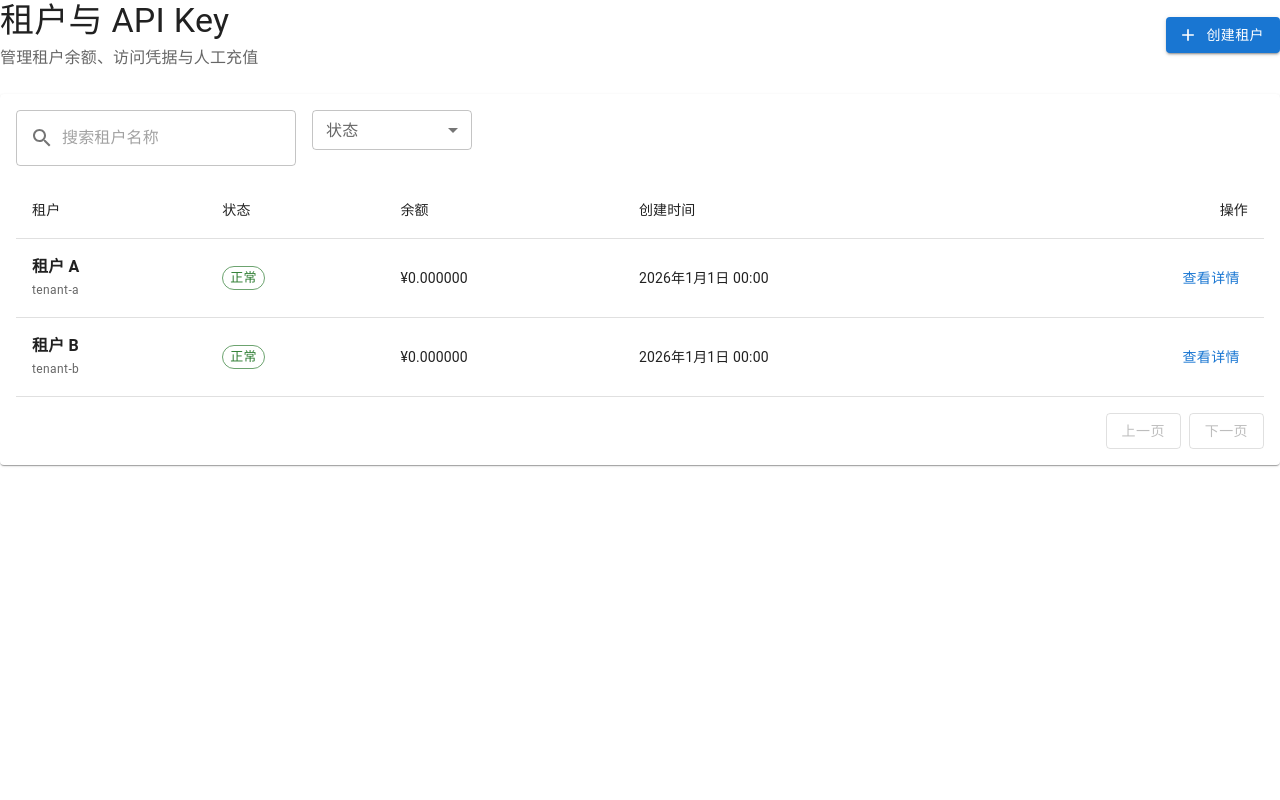
Scenario: 租户创建与一次性 Key 回归 › 未知 Key 异常也有失败反馈，切换租户不会携带旧错误
The image size is (1280, 800).
What coordinates should you click on to do the following:
click the button "查看详情" in the row of "租户 A"
I would click on:
 (1211, 278)
Its box is [1174,260,1248,296].
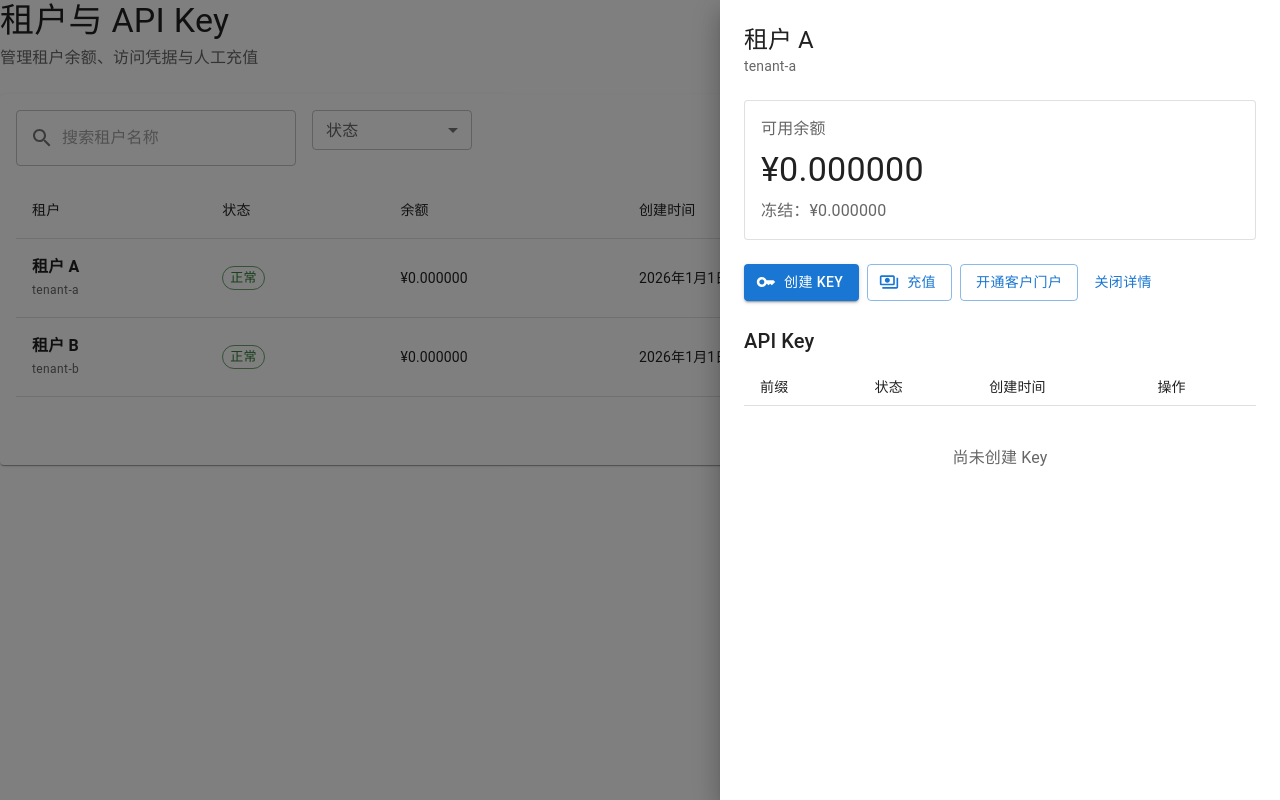
Now the button "创建 Key" is shown
What coordinates should you click on to do the following:
click the button "创建 Key"
I would click on:
 (802, 282)
Its box is [744,264,859,300].
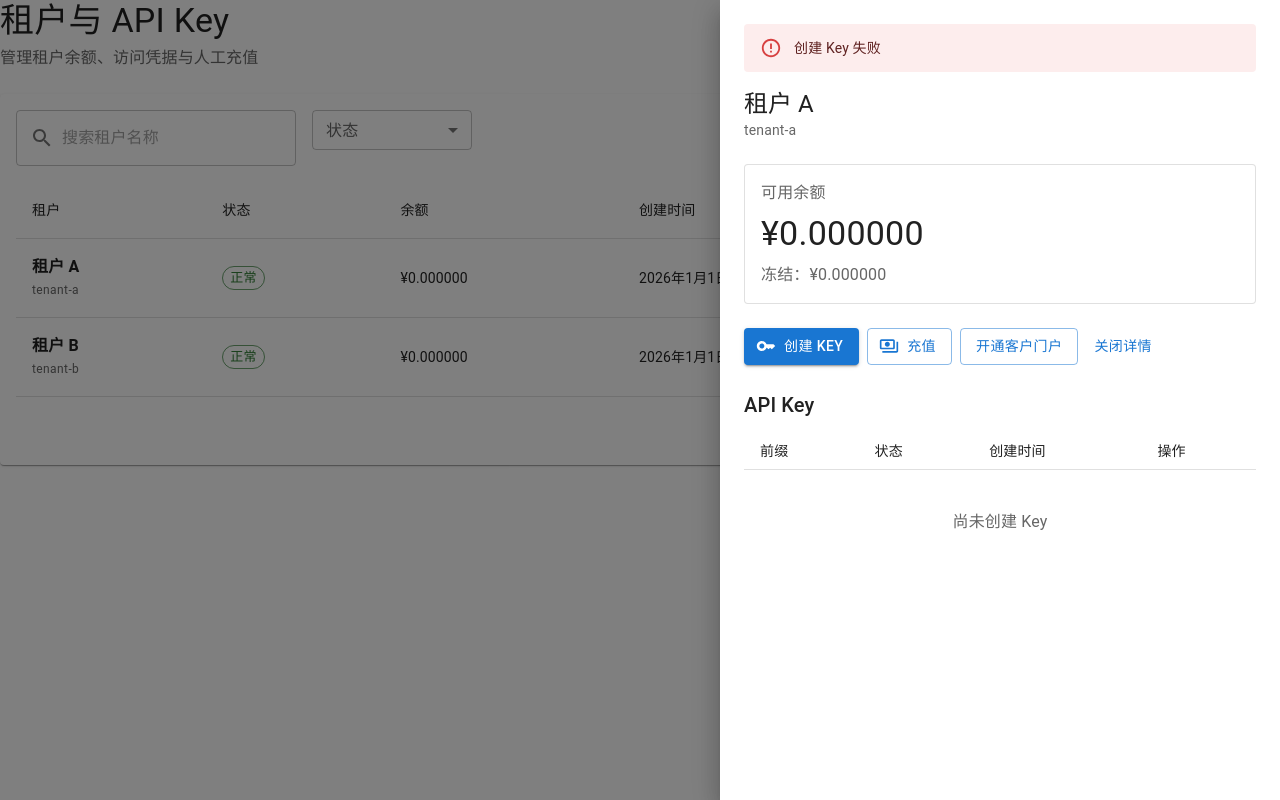
Now the message reads "创建 Key 失败", box [794,40,881,56]
What coordinates should you click on to do the following:
click the button "关闭详情"
I would click on:
 (1123, 346)
Its box is [1086,328,1160,364].
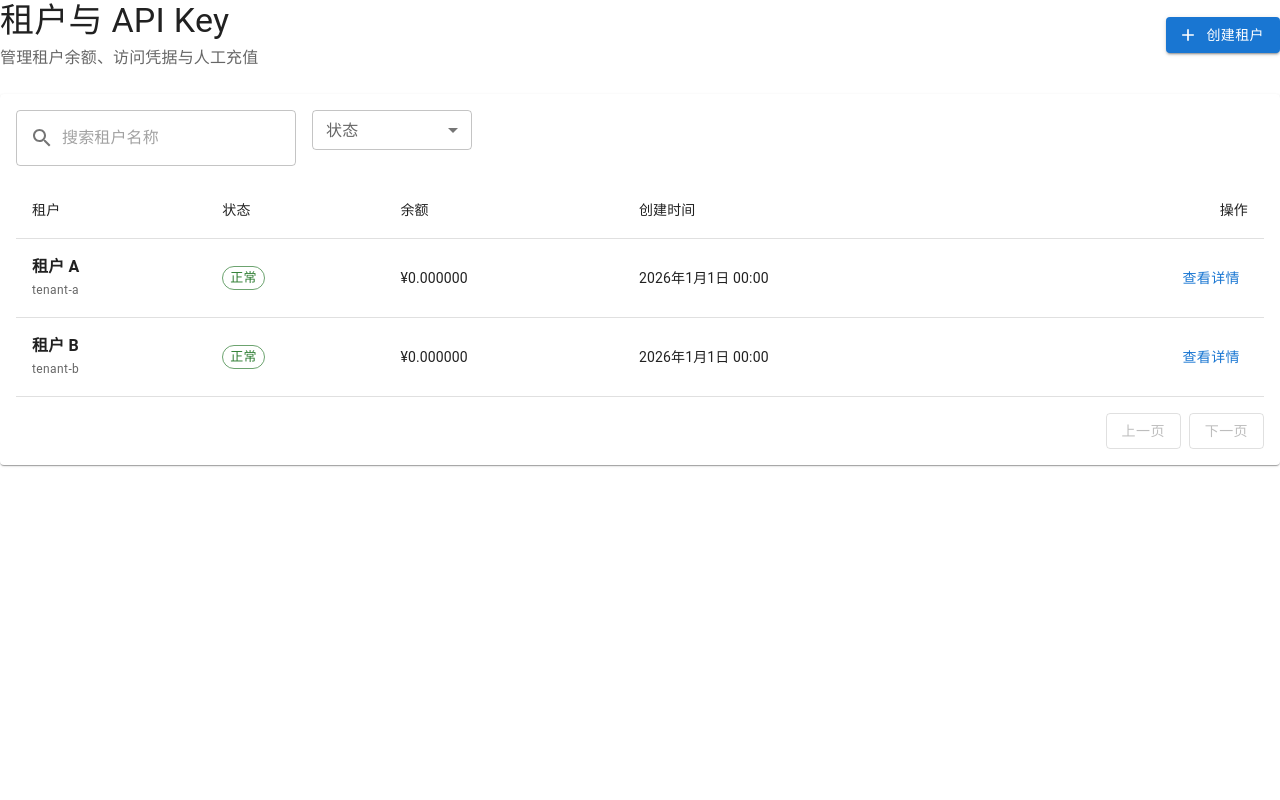
What coordinates should you click on to do the following:
click the button "查看详情" in the row of "租户 B"
I would click on:
 (1211, 357)
Its box is [1174,339,1248,375].
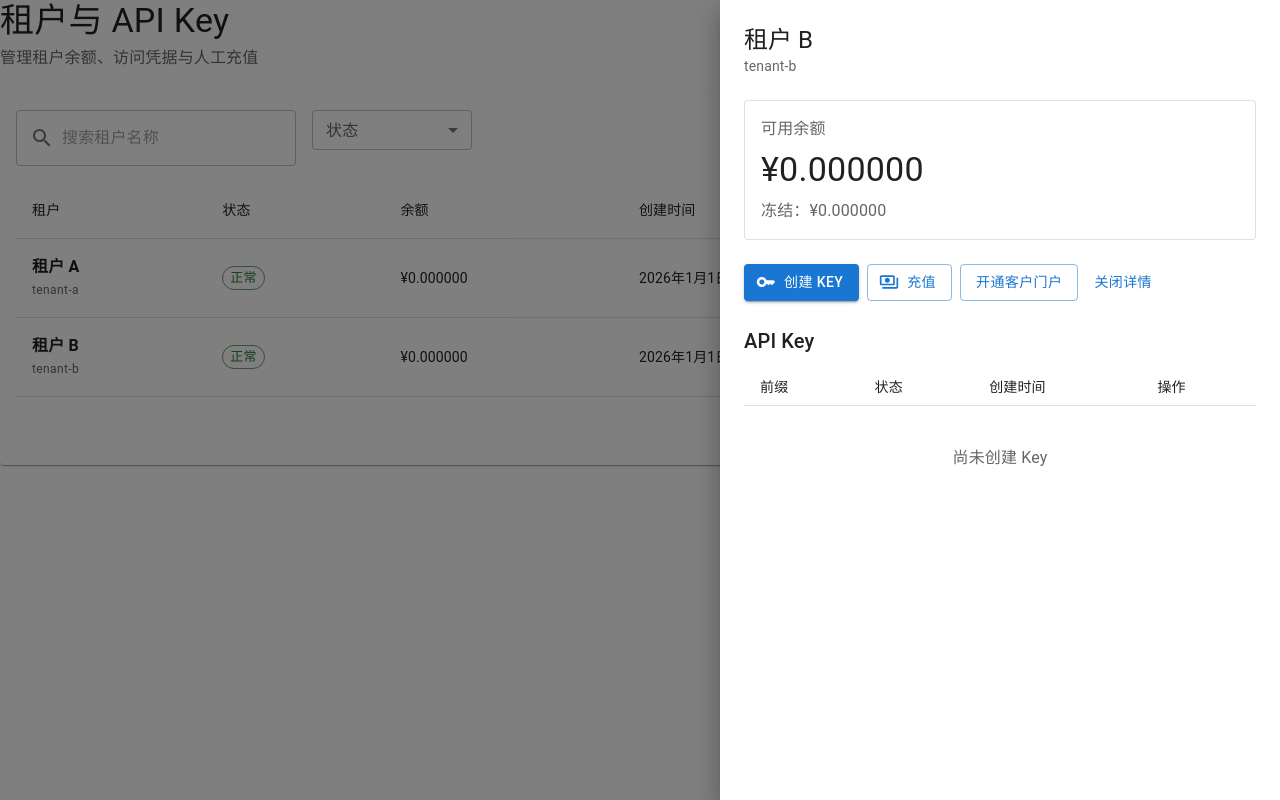
Expected: the text "创建 Key 失败" is not shown
Now the button "创建 Key" is shown, box [744,264,859,300]
